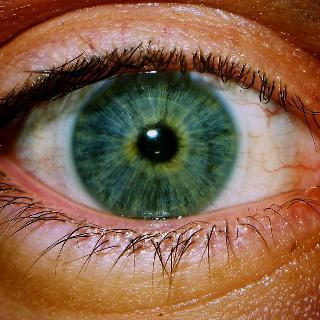iris: (73, 60, 239, 226)
